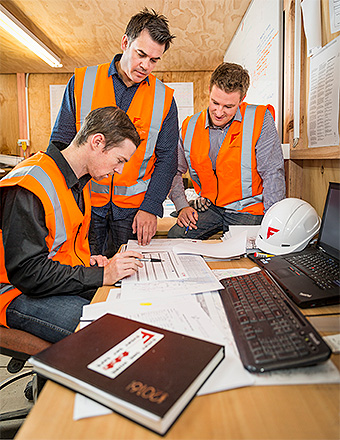hard hat: (254, 197, 320, 254)
high-vis: (1, 152, 93, 324), (71, 62, 175, 210), (180, 104, 276, 216)
